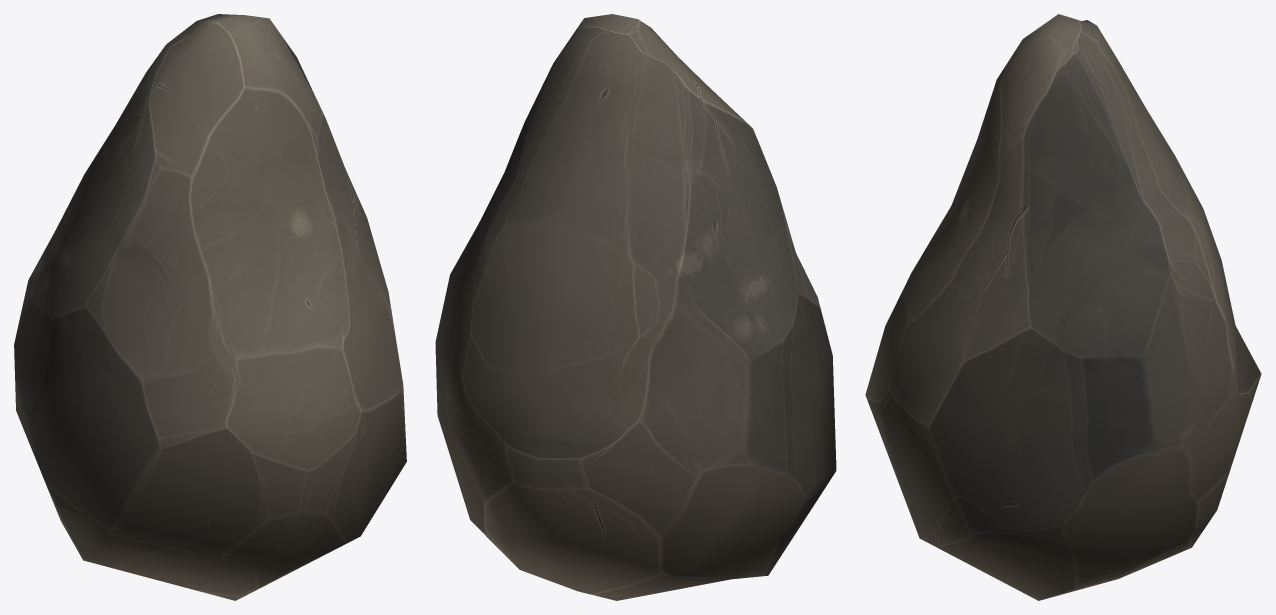
3 renders of one model, left to right at view 1: azimuth 30°, elevation 25°; view 2: azimuth 150°, elevation 25°; view 3: azimuth 270°, elevation 25°, orthographic. The views are drawn at different scales.
Visible parts, largest first — view 1: SM_STYLIZEDROCK_1_JFG; view 2: SM_STYLIZEDROCK_1_JFG; view 3: SM_STYLIZEDROCK_1_JFG.
Part boxes in pixels (bbox=[...]): SM_STYLIZEDROCK_1_JFG: bbox=[14, 14, 406, 600]; SM_STYLIZEDROCK_1_JFG: bbox=[435, 14, 836, 600]; SM_STYLIZEDROCK_1_JFG: bbox=[865, 14, 1261, 600].
Bounding box in the file's own units: 144 × 226 × 142.
1 material, 1 textured.
